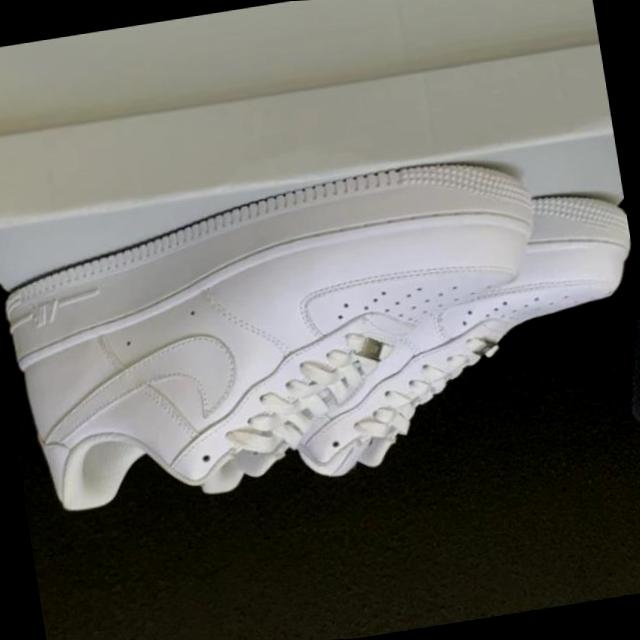nike_original_airforce: (0, 147, 576, 528), (162, 183, 640, 500)
